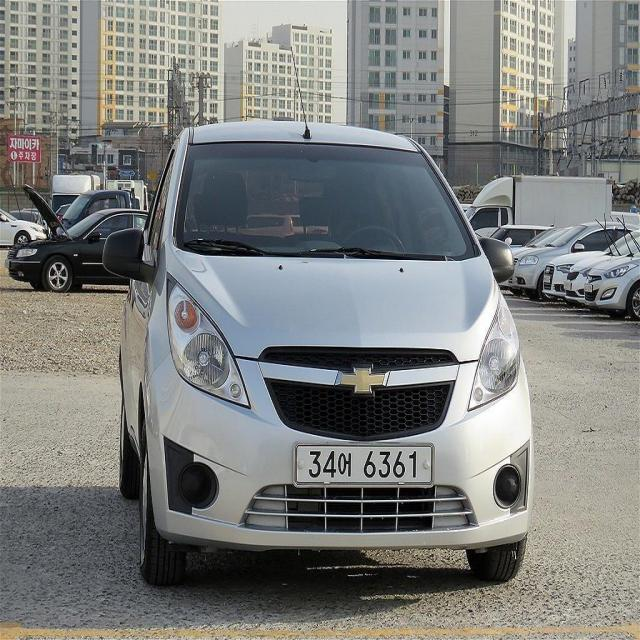car: (103, 113, 549, 592)
illegal_plate: (294, 438, 434, 492)
